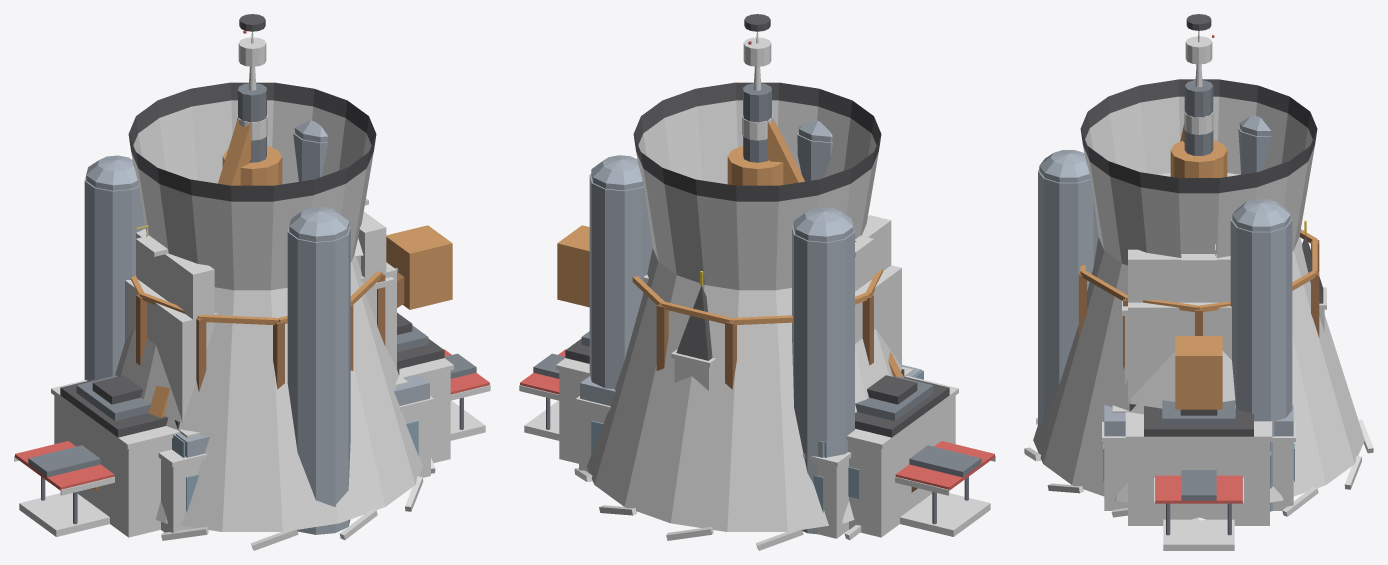
File: ironvale_kit.glb
The picture shows the model from 3 angles, left to right: view 1: azimuth 30°, elevation 25°; view 2: azimuth 150°, elevation 25°; view 3: azimuth 270°, elevation 25°; orthographic projection. The views are drawn at different scales.
Visible parts, largest first — view 1: iv_cooling_tower, iv_blast_furnace, iv_engine_shed, iv_dam_sluice, iv_station_canopy, iv_market_hall, iv_conveyor, iv_gasometer, iv_smokestack, iv_union_hall; view 2: iv_cooling_tower, iv_blast_furnace, iv_engine_shed, iv_station_canopy, iv_market_hall, iv_dam_sluice, iv_gasometer, iv_chapel, iv_conveyor, iv_smokestack; view 3: iv_cooling_tower, iv_blast_furnace, iv_engine_shed, iv_dam_sluice, iv_station_canopy, iv_market_hall, iv_conveyor, iv_gasometer, iv_smokestack, iv_chapel.
Boxes of the visible parts, x1,y1,x2,y2 form: iv_cooling_tower: [115, 82, 435, 550]; iv_blast_furnace: [84, 83, 350, 534]; iv_engine_shed: [51, 312, 453, 537]; iv_dam_sluice: [125, 198, 396, 422]; iv_station_canopy: [14, 349, 490, 536]; iv_market_hall: [158, 375, 434, 532]; iv_conveyor: [92, 225, 452, 492]; iv_gasometer: [131, 271, 385, 391]; iv_smokestack: [237, 14, 267, 140]; iv_union_hall: [174, 238, 408, 437]; iv_cooling_tower: [574, 82, 903, 550]; iv_blast_furnace: [589, 83, 903, 534]; iv_engine_shed: [556, 331, 958, 537]; iv_station_canopy: [519, 349, 995, 536]; iv_market_hall: [575, 365, 923, 538]; iv_dam_sluice: [643, 215, 901, 367]; iv_gasometer: [632, 269, 883, 389]; iv_chapel: [671, 271, 715, 390]; iv_conveyor: [557, 225, 917, 492]; iv_smokestack: [742, 14, 772, 140]; iv_cooling_tower: [1024, 79, 1373, 517]; iv_blast_furnace: [1038, 80, 1292, 511]; iv_engine_shed: [1125, 400, 1272, 525]; iv_dam_sluice: [1128, 173, 1239, 403]; iv_station_canopy: [1154, 470, 1243, 550]; iv_market_hall: [1102, 405, 1295, 510]; iv_conveyor: [1175, 336, 1222, 409]; iv_gasometer: [1078, 229, 1319, 369]; iv_smokestack: [1184, 14, 1214, 134]; iv_chapel: [1302, 220, 1326, 331].
Size of the model in its own units: 40 by 40.44 by 29.52.
